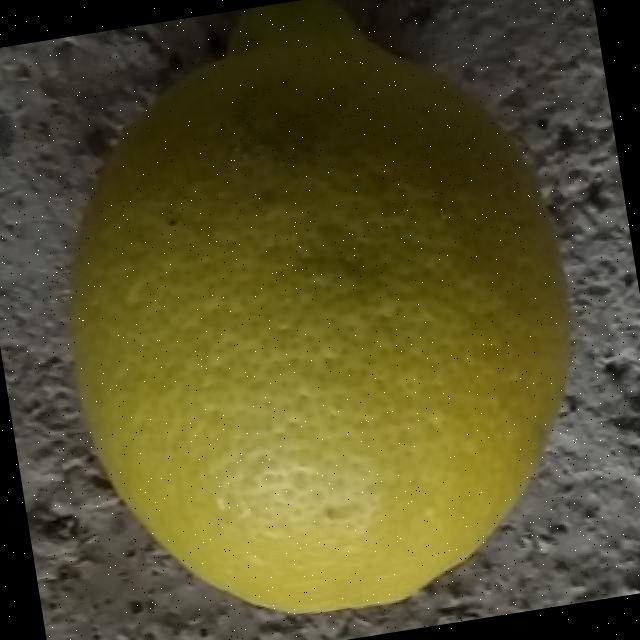Lemon: (17, 0, 618, 640)
